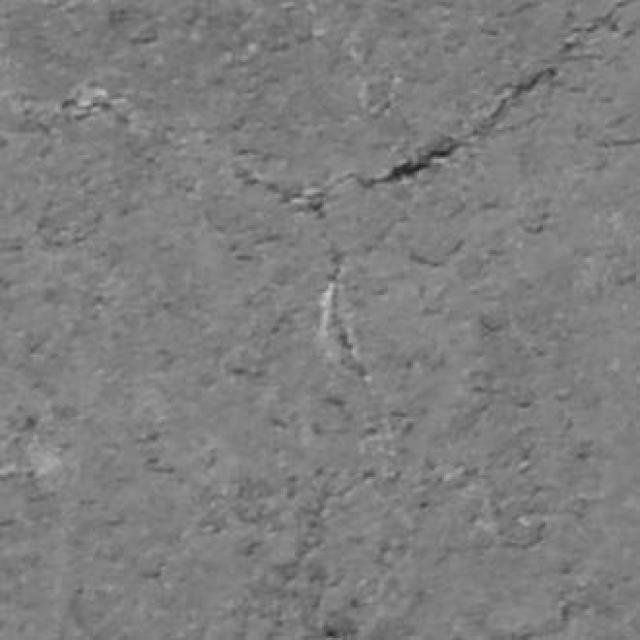crack: (239, 0, 636, 217), (319, 251, 370, 383), (470, 64, 558, 139), (359, 134, 463, 186)
